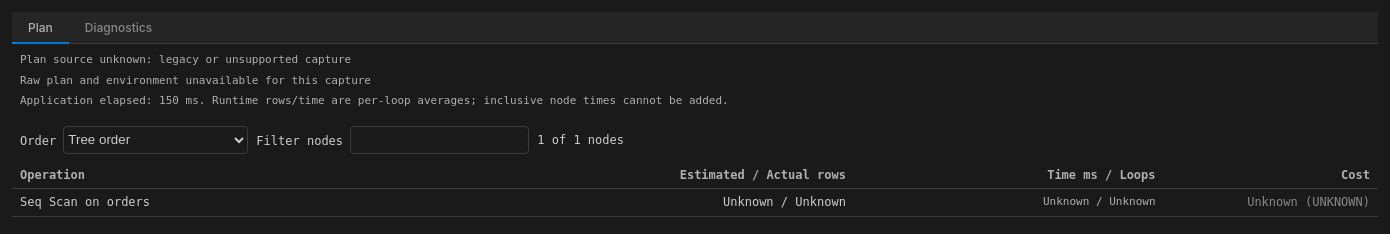
it: ResultsPanel › Diagnostics integration › shows the hook-not-provided fallback only when the diagnostics prop is absent
The width and height of the screenshot is (1390, 234).
Click the tab "Diagnostics" at (118, 28), box [69,12,168,44]
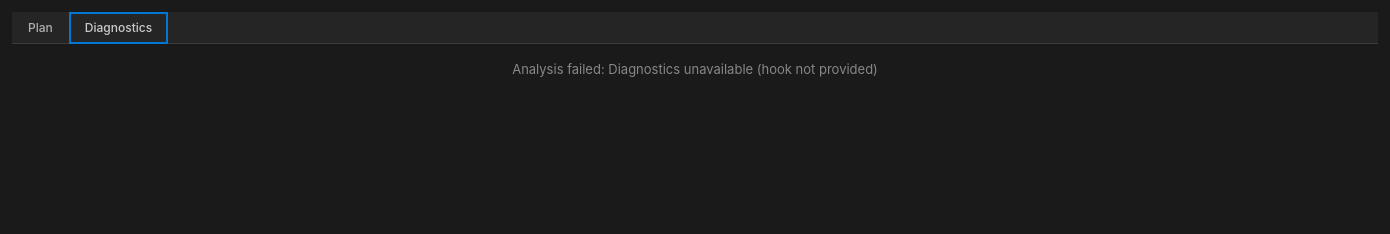
Check: the text "Analysis failed: Diagnostics unavailable (hook not provided)" is shown, box [512,60,878,80]
